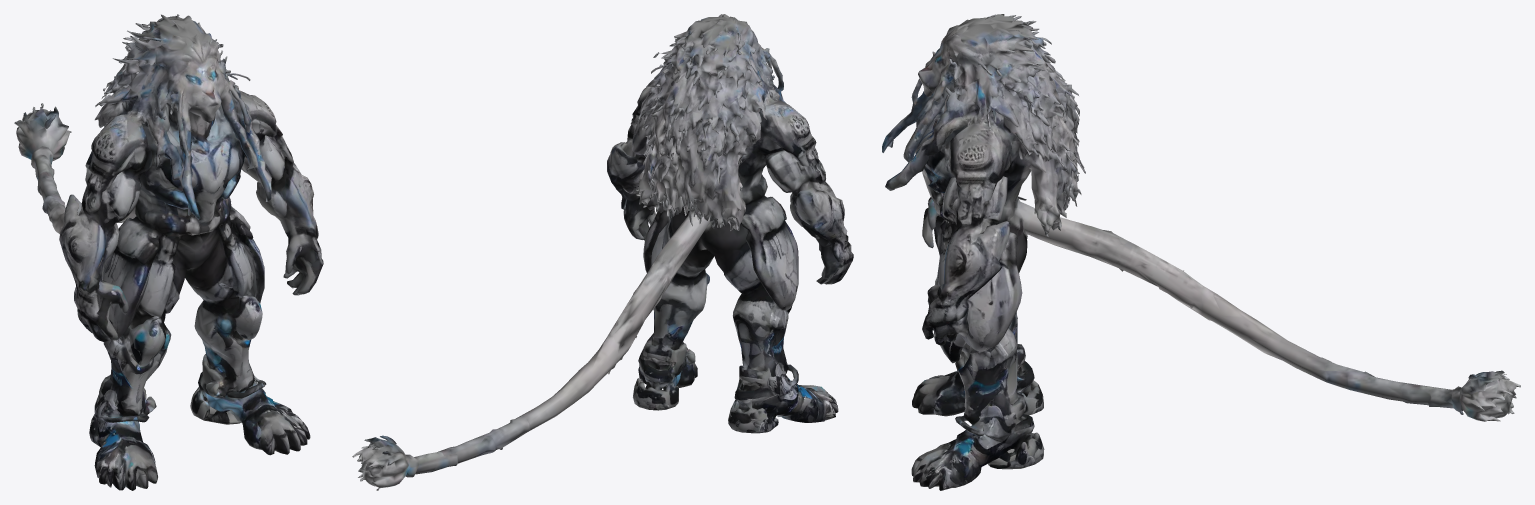
The model's file is voya.glb.
The picture shows the model from 3 angles, left to right: view 1: azimuth 30°, elevation 25°; view 2: azimuth 150°, elevation 25°; view 3: azimuth 270°, elevation 25°; orthographic projection. The views are drawn at different scales.
Visible parts, largest first — view 1: tripo_node_876cb9a1-6a3c-4c84-866a-02ca7d4144eb; view 2: tripo_node_876cb9a1-6a3c-4c84-866a-02ca7d4144eb; view 3: tripo_node_876cb9a1-6a3c-4c84-866a-02ca7d4144eb.
Part boxes in pixels (x1,y1,x2,y2): tripo_node_876cb9a1-6a3c-4c84-866a-02ca7d4144eb: (14, 14, 323, 490); tripo_node_876cb9a1-6a3c-4c84-866a-02ca7d4144eb: (352, 14, 853, 490); tripo_node_876cb9a1-6a3c-4c84-866a-02ca7d4144eb: (882, 14, 1520, 490).
Bounding box in the file's own units: 0.4715 × 0.7379 × 0.9982.
1 material, 1 textured.
